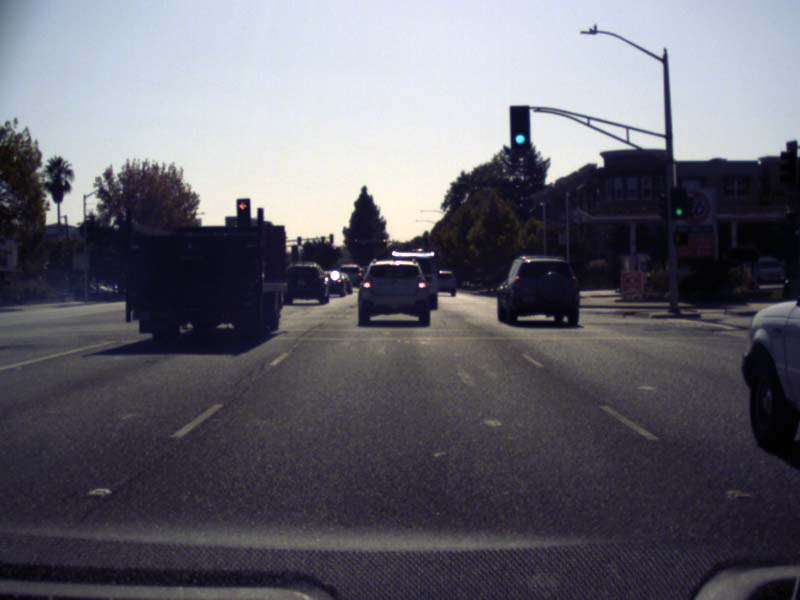Green: (509, 105, 530, 150), (669, 185, 686, 219)
Red: (236, 198, 250, 225), (381, 238, 386, 245)
Yellow: (353, 238, 357, 244)
